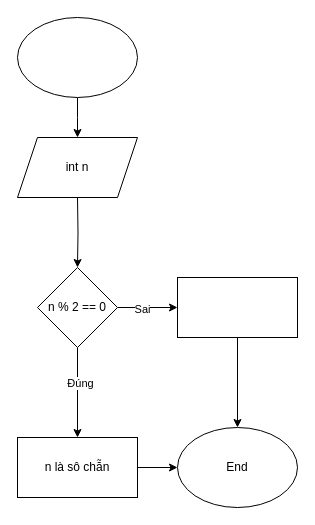
Image size: 315x525. Some labels were removed from this diagram. Each missing label, with the centre of its shape:
"n không là số chẵn" goes at (x=237, y=307).
"Start" goes at (x=77, y=57).
